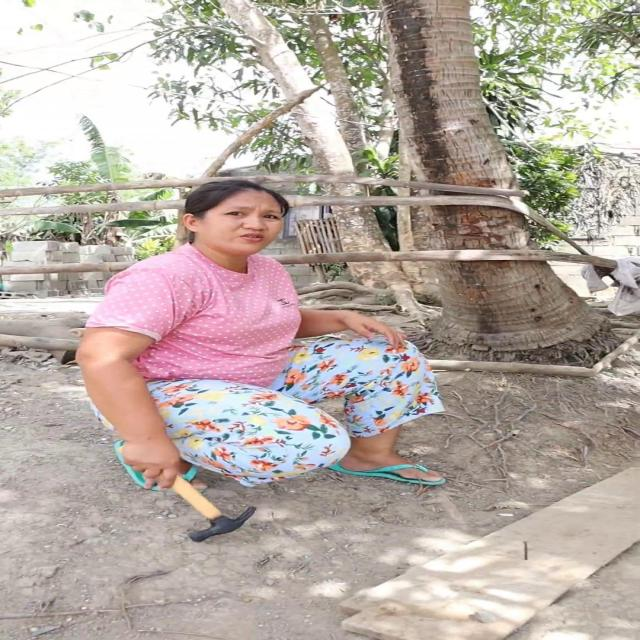hammer: (142, 462, 267, 546)
